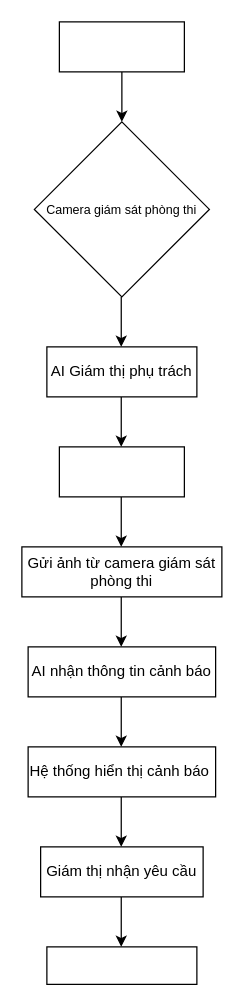
Some shapes in this 244 by 1006 pixel diagram are drawn without their labels. The box of each missing label's shape, as (x1, y1, x2, y2) in pixels:
Bắt đầu: (58, 21, 184, 72)
Kết thúc giám sát: (46, 946, 197, 984)
Tiếp tục giám sát: (58, 446, 184, 497)
